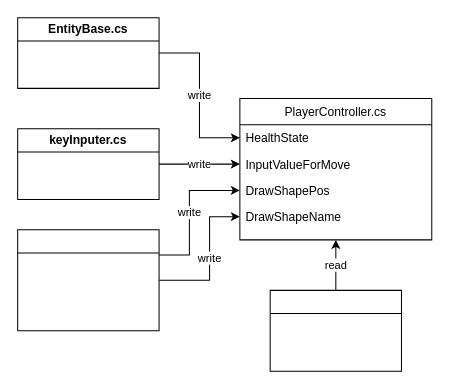
Image size: 449x389. Some labels were removed from this diagram. The centre of each missing label's shape, as x and y in pixels:
DrawShapeJudger.cs: the point at 88,280
VisualController.cs: the point at 335,330
